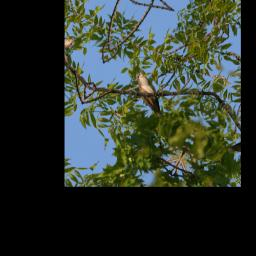Cuckoo: (123, 69, 178, 119)
